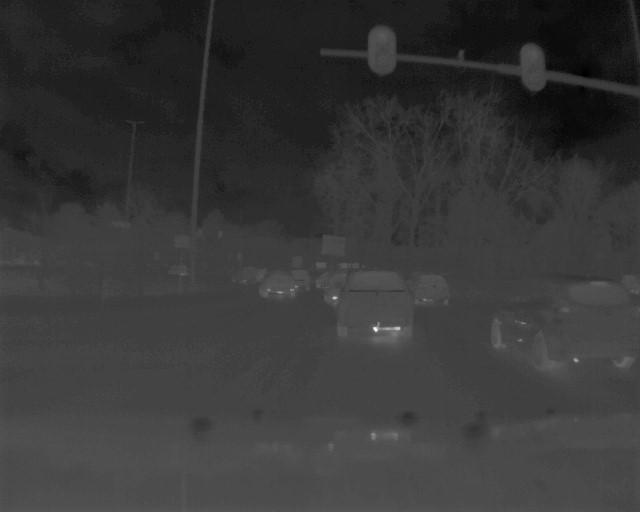car: (491, 276, 640, 376), (339, 271, 414, 337), (258, 268, 298, 299), (415, 273, 451, 307)
